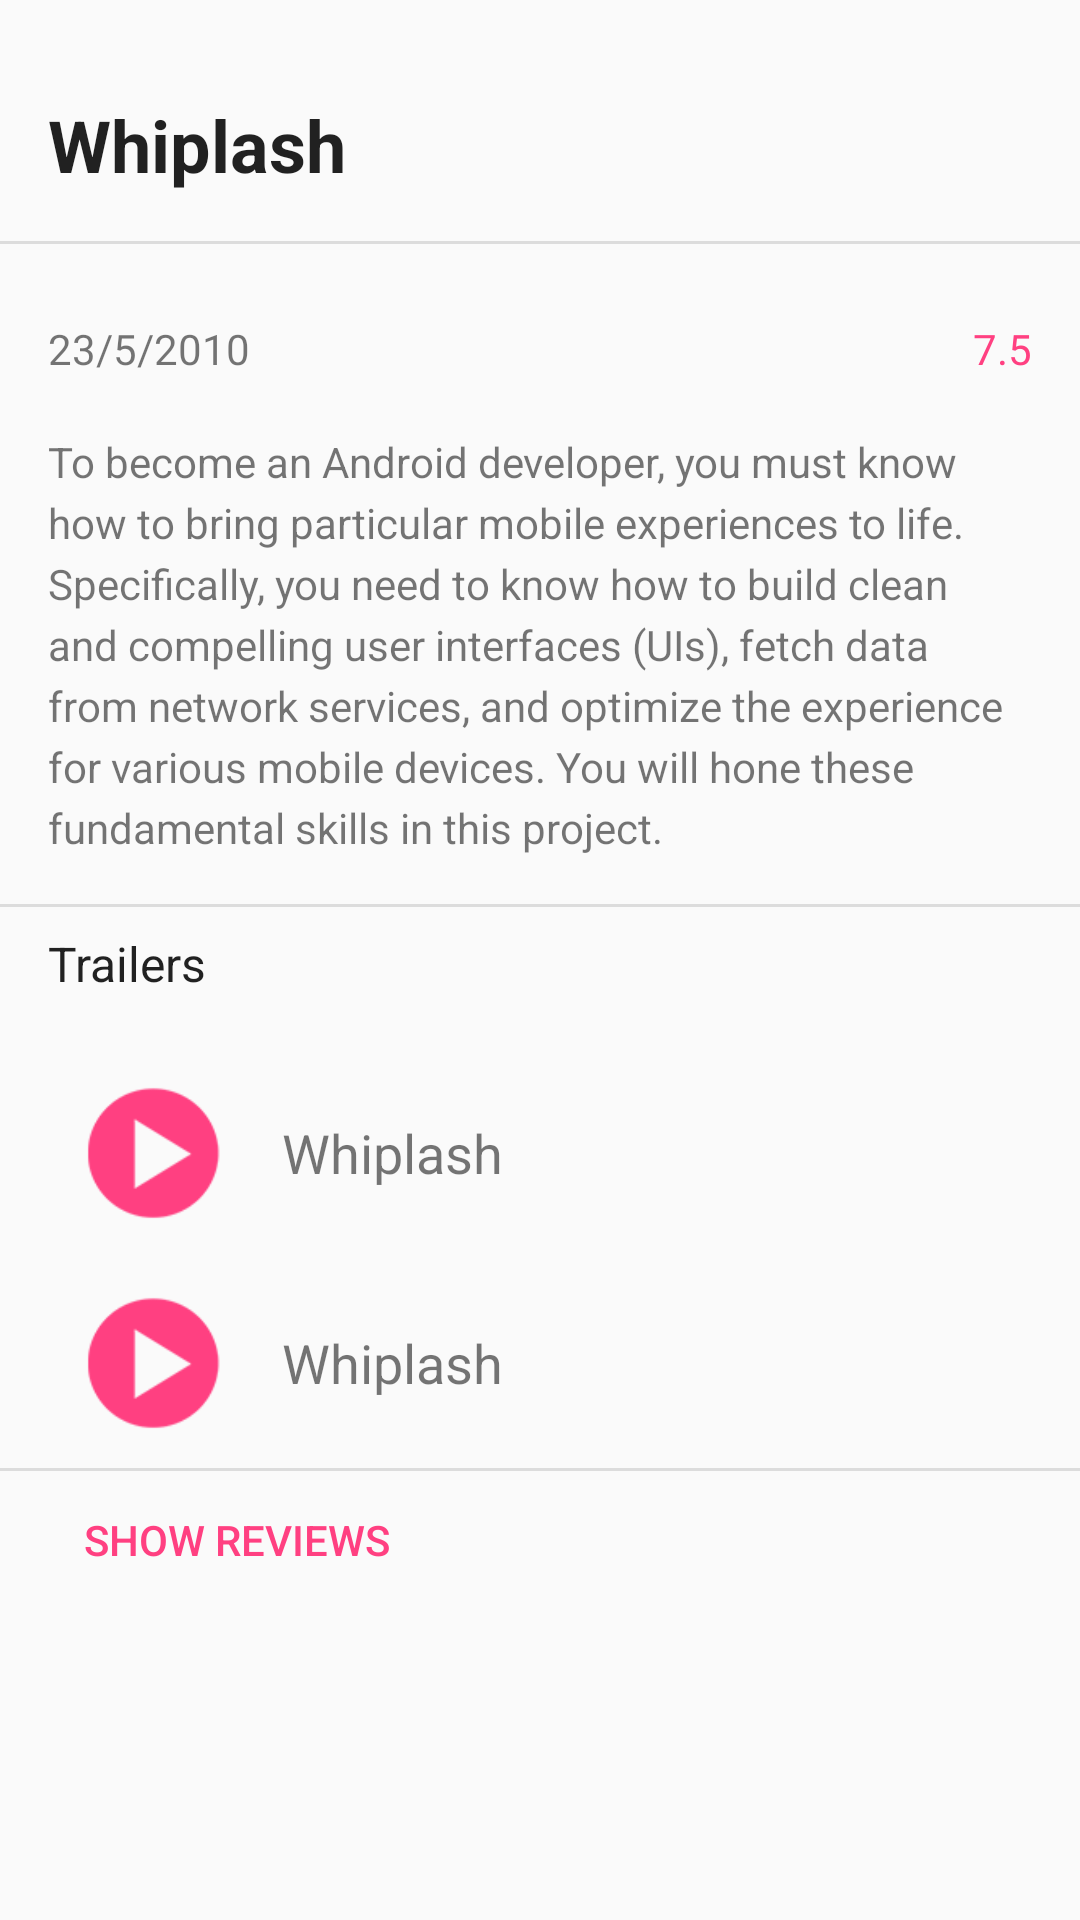

Screen size 1080 x 1920. Icon name, then its center in pixels as point (x, y):
play: point (154, 1153), point (154, 1363)
